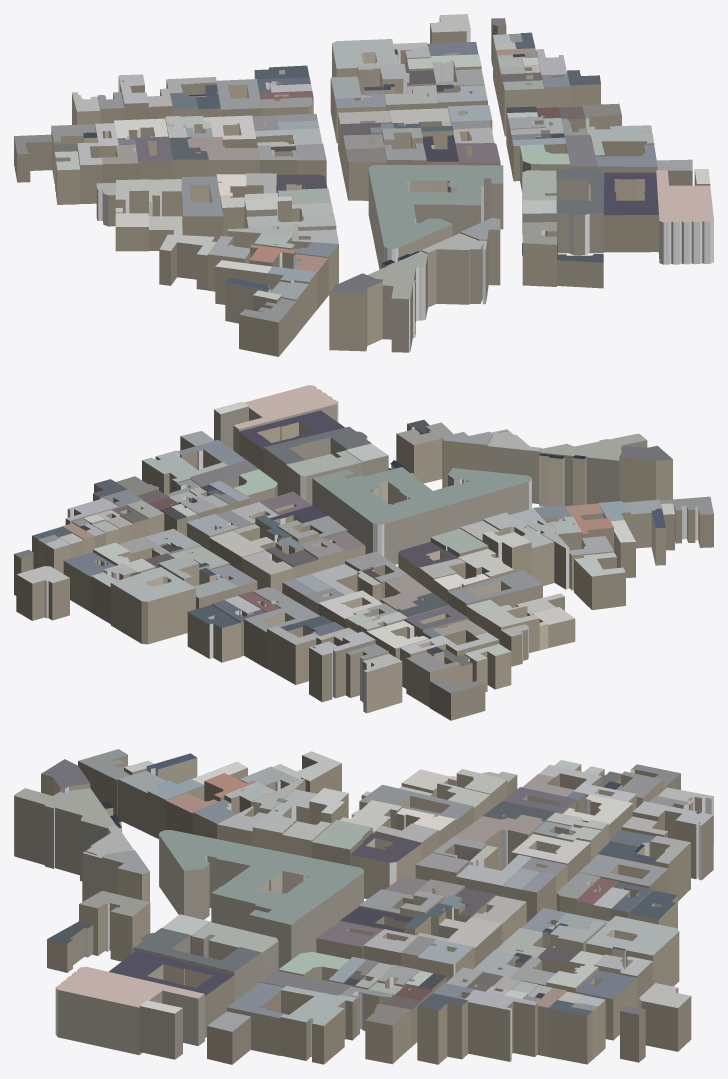
The picture shows the model from 3 angles, top to bottom: view 1: azimuth 30°, elevation 25°; view 2: azimuth 150°, elevation 25°; view 3: azimuth 270°, elevation 25°; orthographic projection. The views are drawn at different scales.
Visible parts, largest first — view 1: tuile; view 2: tuile; view 3: tuile.
Boxes of the visible parts, bbox=[...] form: tuile: bbox=[14, 14, 713, 356]; tuile: bbox=[14, 385, 713, 720]; tuile: bbox=[14, 749, 713, 1064].
Bounding box in the file's own units: 264 × 30.7 × 281.
